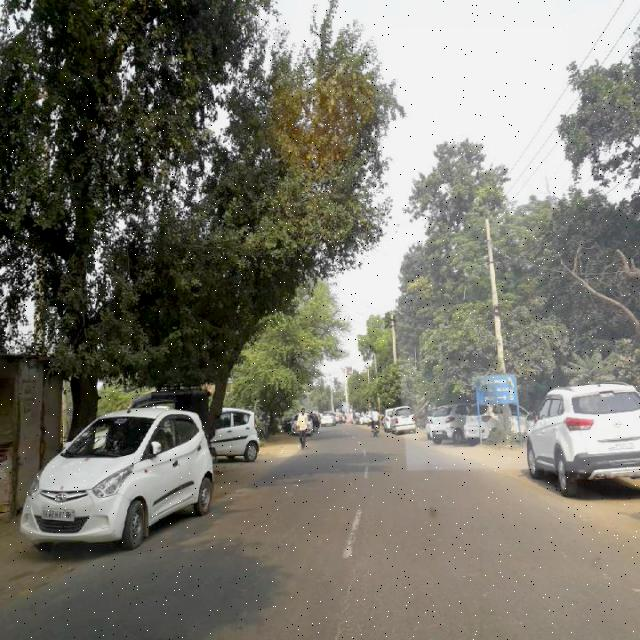D44: (339, 503, 369, 562)
